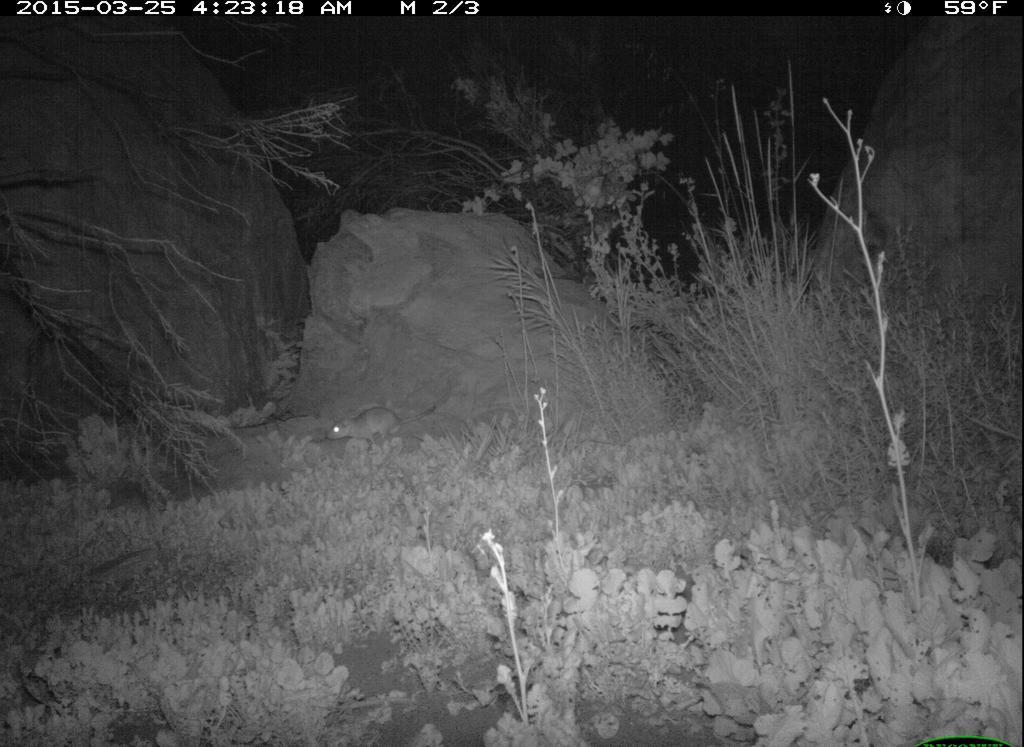rodent: (322, 397, 432, 466)
